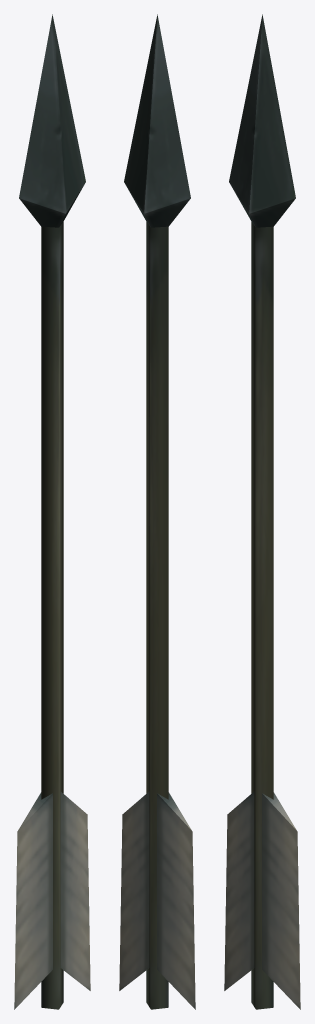
Rendered from gongjian_01.FBX.
3 views of the same model, side by side, from view 1: azimuth 30°, elevation 25°; view 2: azimuth 150°, elevation 25°; view 3: azimuth 330°, elevation 25° (orthographic).
Visible parts, largest first — view 1: gongjian_01; view 2: gongjian_01; view 3: gongjian_01.
Part boxes in pixels (<box>): gongjian_01: <box>14,14,90,1009</box>; gongjian_01: <box>119,14,195,1009</box>; gongjian_01: <box>224,14,300,1009</box>.
Bounding box in the file's own units: 30.04 × 373 × 18.11.
